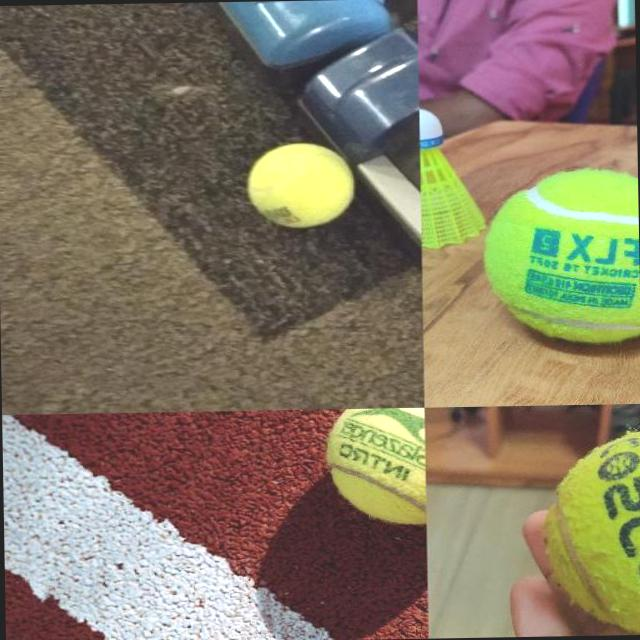Tennis Ball: (483, 169, 640, 343), (542, 428, 640, 635), (324, 407, 426, 527), (246, 142, 356, 228)
